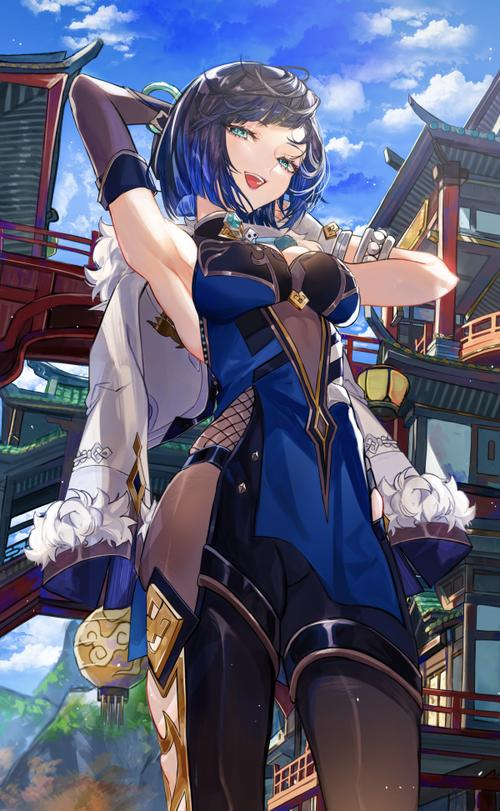夜兰: (67, 60, 459, 811)
